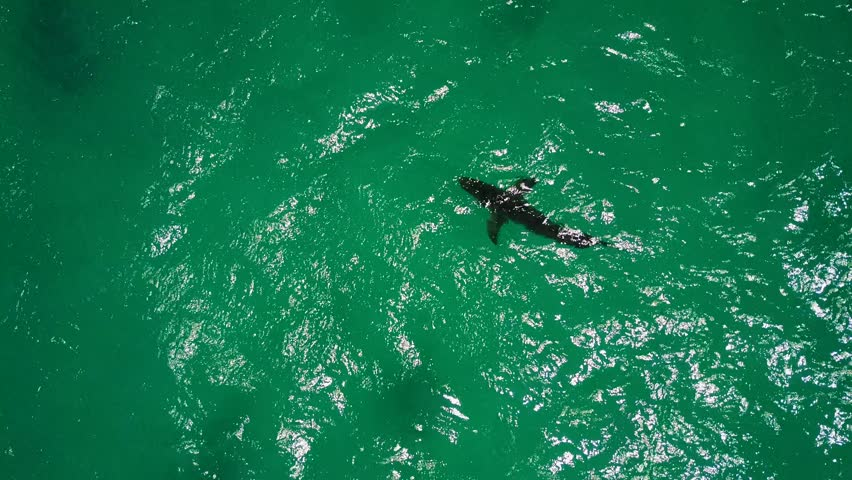shark: (453, 168, 627, 261)
